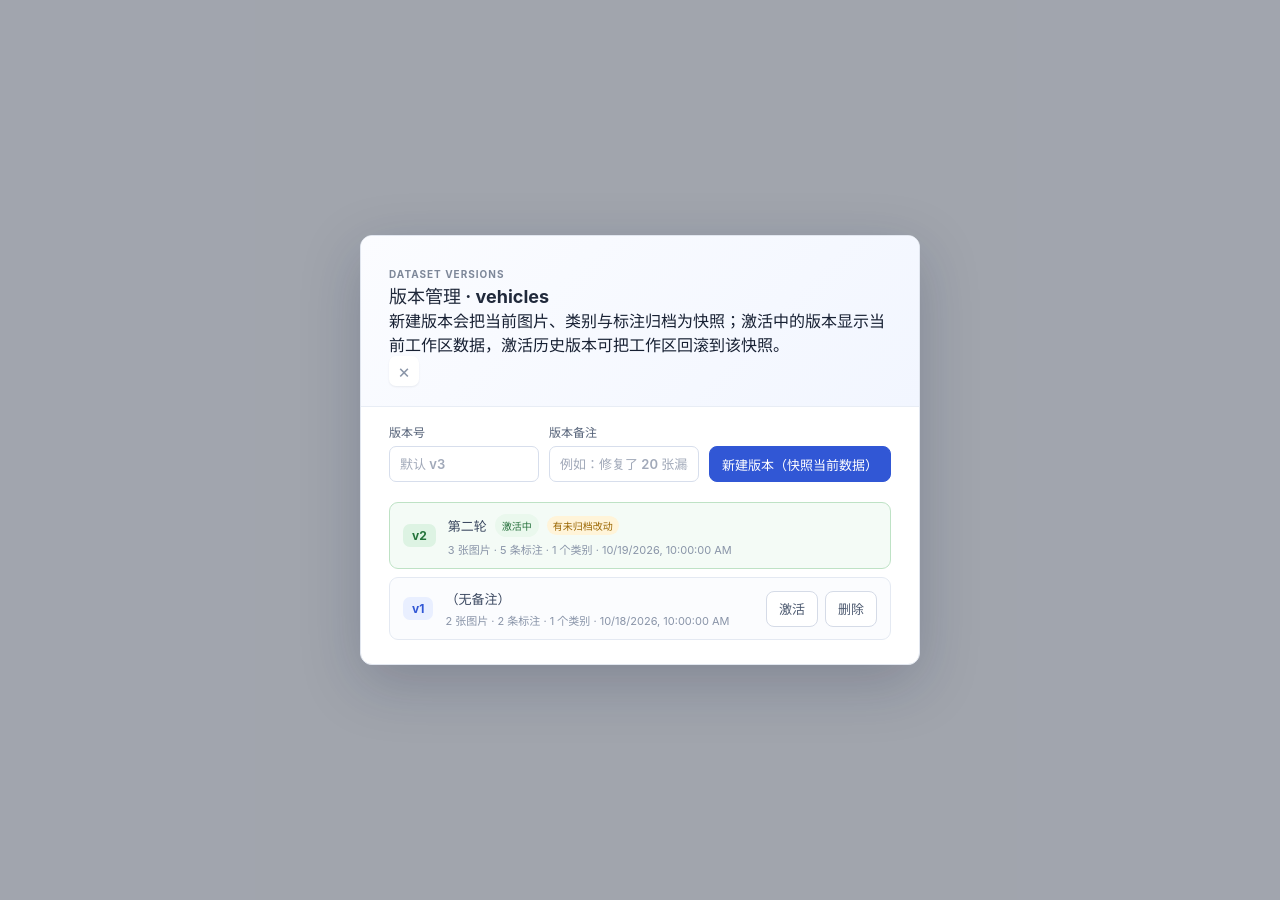
DatasetVersionDialog › asks to archive unarchived changes before switching versions
Click the button "激活".
click(792, 608)  # box x1=766 y1=590 x2=818 y2=626
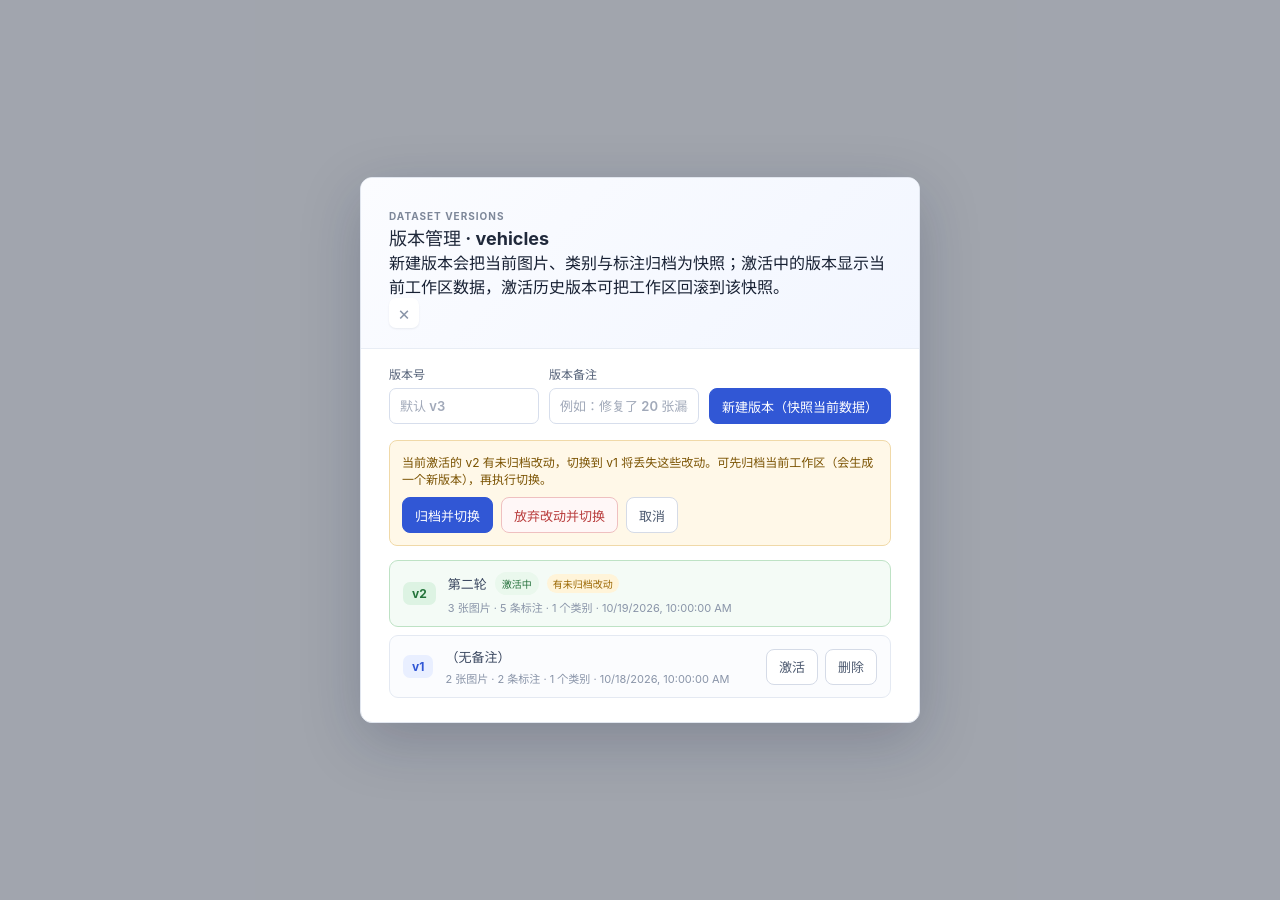
Expected: the text "有未归档改动" is shown, x1=480 y1=455 x2=606 y2=470
Expected: the text "切换到 v1" is shown, x1=402 y1=453 x2=878 y2=487
Click the button "归档并切换".
click(448, 515)  # box x1=402 y1=497 x2=493 y2=533
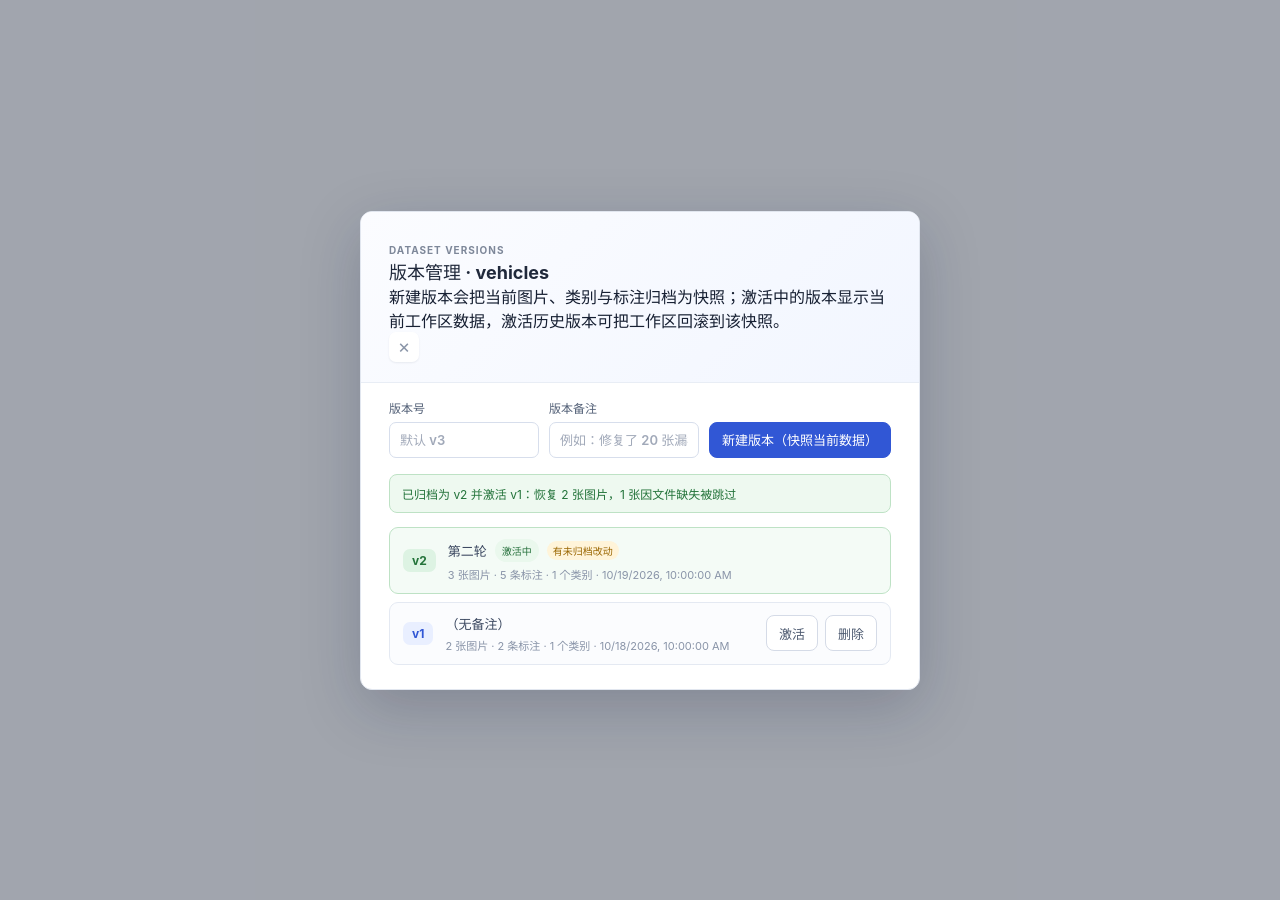
Expected: the text "已归档为 v2 并激活 v1" is shown, x1=402 y1=486 x2=736 y2=502
